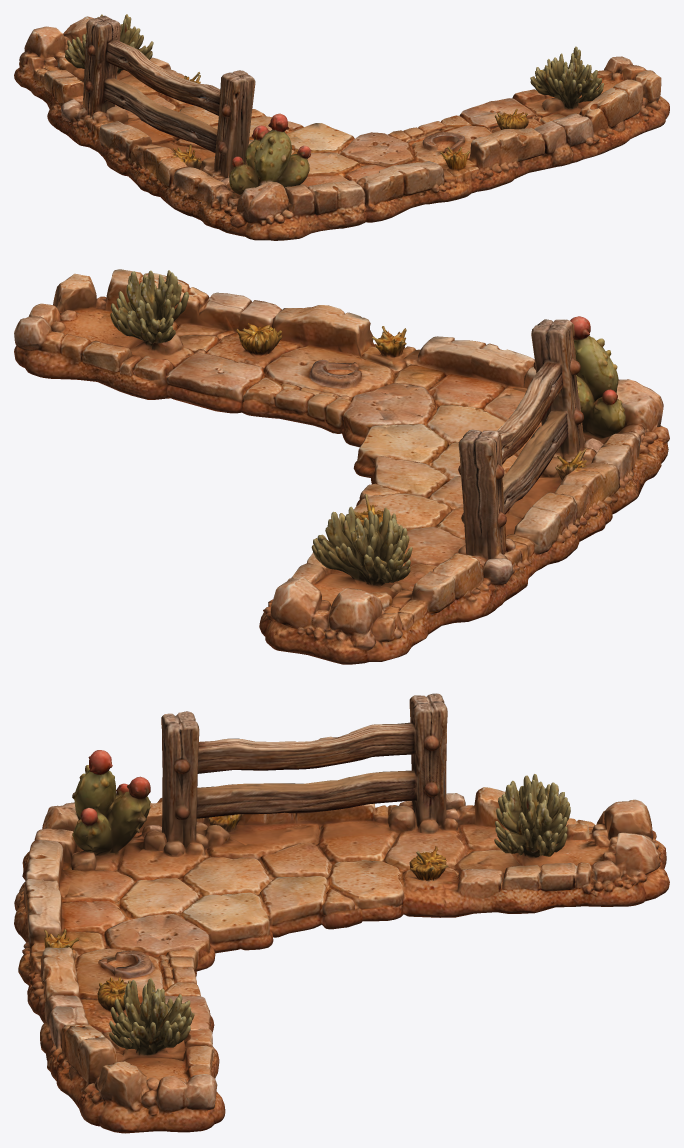
The model's file is ghost-town-corner.glb.
The picture shows the model from 3 angles, top to bottom: view 1: azimuth 30°, elevation 25°; view 2: azimuth 150°, elevation 25°; view 3: azimuth 270°, elevation 25°; orthographic projection. The views are drawn at different scales.
Parts seen in each view (by area): view 1: tripo_node_99775673-7aa5-46e7-924f-5ffac260041a; view 2: tripo_node_99775673-7aa5-46e7-924f-5ffac260041a; view 3: tripo_node_99775673-7aa5-46e7-924f-5ffac260041a.
Boxes of the visible parts, box(x1,y1,x2,y2) form: tripo_node_99775673-7aa5-46e7-924f-5ffac260041a: box(14, 14, 669, 240); tripo_node_99775673-7aa5-46e7-924f-5ffac260041a: box(14, 269, 669, 664); tripo_node_99775673-7aa5-46e7-924f-5ffac260041a: box(14, 693, 669, 1133).
Bounding box in the file's own units: 0.9806 × 0.2375 × 0.8855.
1 material, 1 textured.
